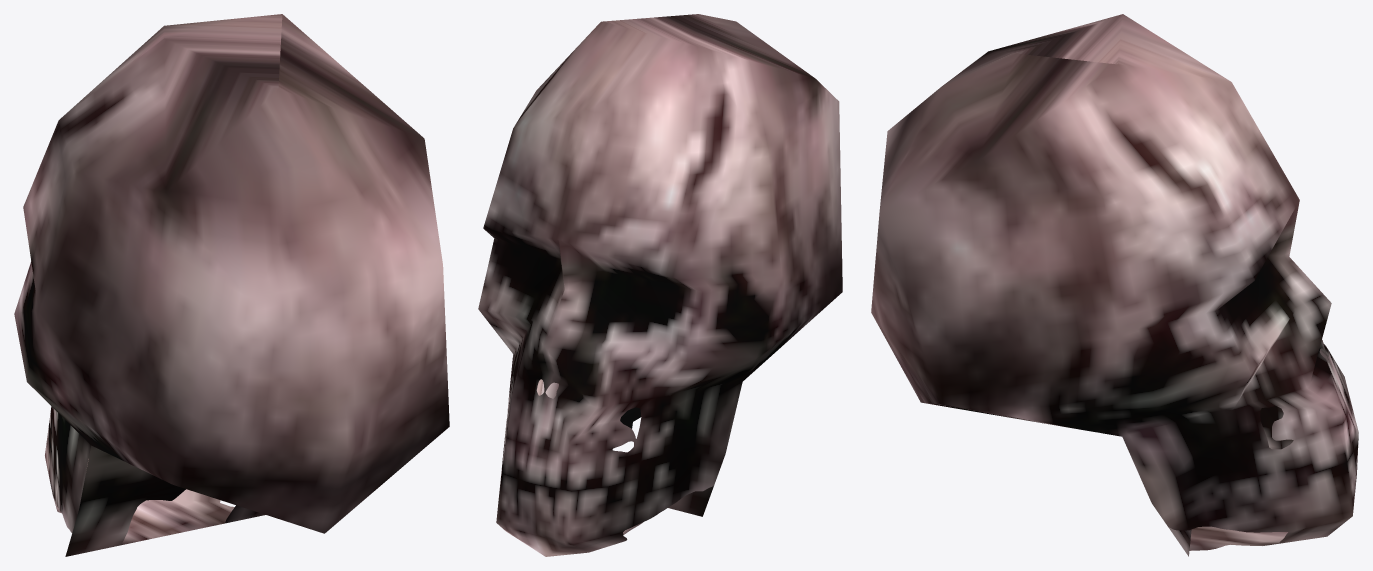
Rendered from SKULL.glb.
3 renders of one model, left to right at view 1: azimuth 30°, elevation 25°; view 2: azimuth 150°, elevation 25°; view 3: azimuth 270°, elevation 25°, orthographic. The views are drawn at different scales.
Visible parts, largest first — view 1: Mesh; view 2: Mesh; view 3: Mesh.
Part boxes in pixels (box(x1,y1,x2,y2)): Mesh: box(14, 14, 449, 556); Mesh: box(478, 14, 842, 556); Mesh: box(871, 14, 1358, 556).
Size of the model in its own units: 0.3571 by 0.5488 by 0.4971.
1 material, 1 textured.
